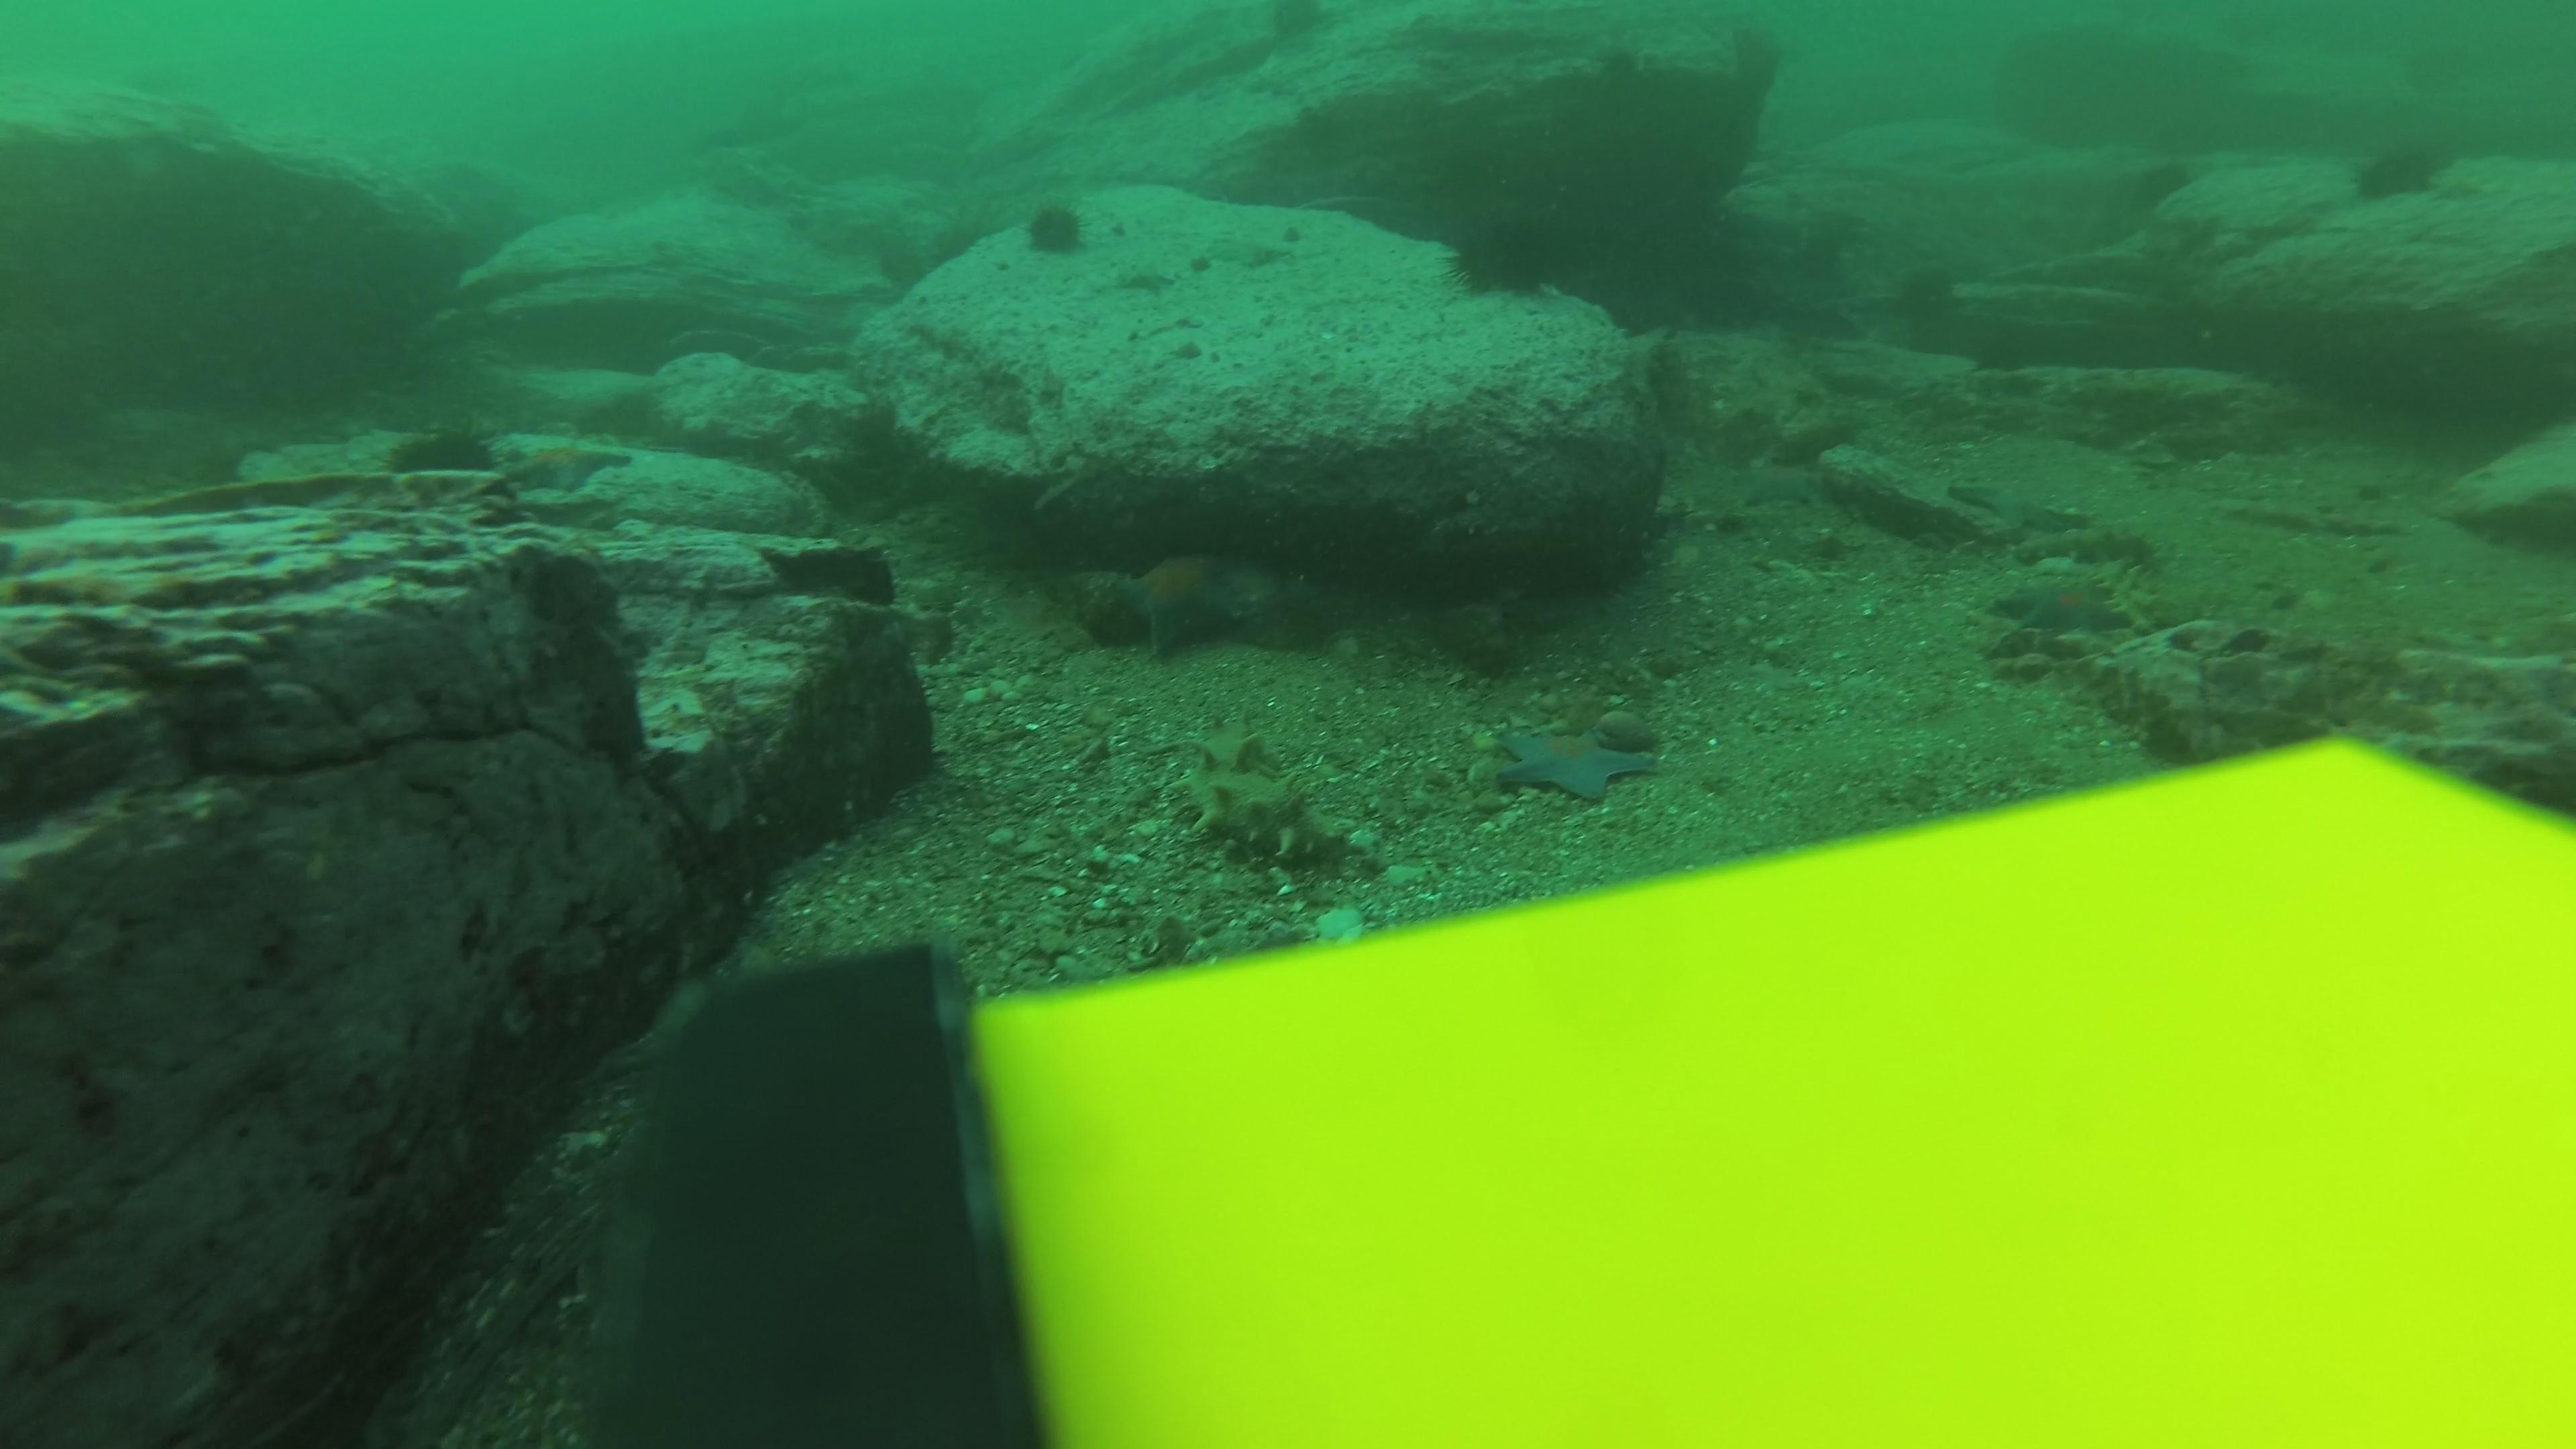echinus: (1437, 203, 1573, 308), (2342, 129, 2454, 211), (386, 418, 502, 481), (1014, 191, 1097, 265)
holothurian: (1166, 718, 1375, 885)
starfish: (1099, 538, 1263, 660), (1486, 708, 1665, 807), (1985, 570, 2141, 642), (488, 432, 639, 501), (1943, 469, 2089, 536), (1727, 453, 1831, 515)
